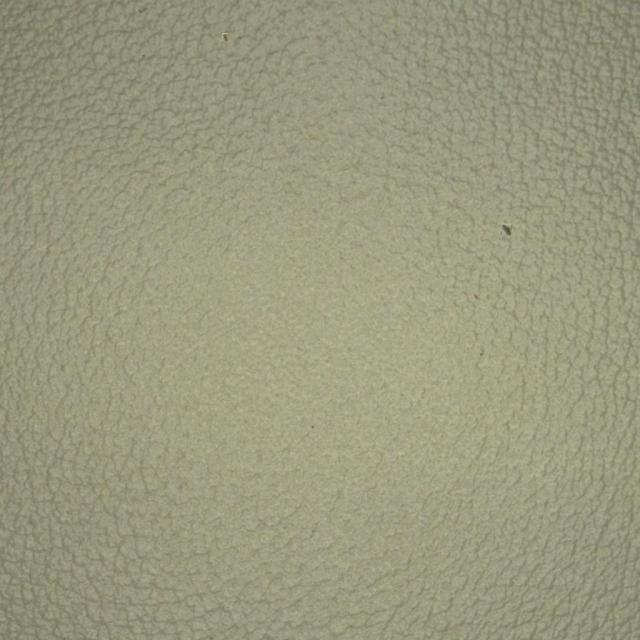pinhole: (450, 160, 575, 316)
